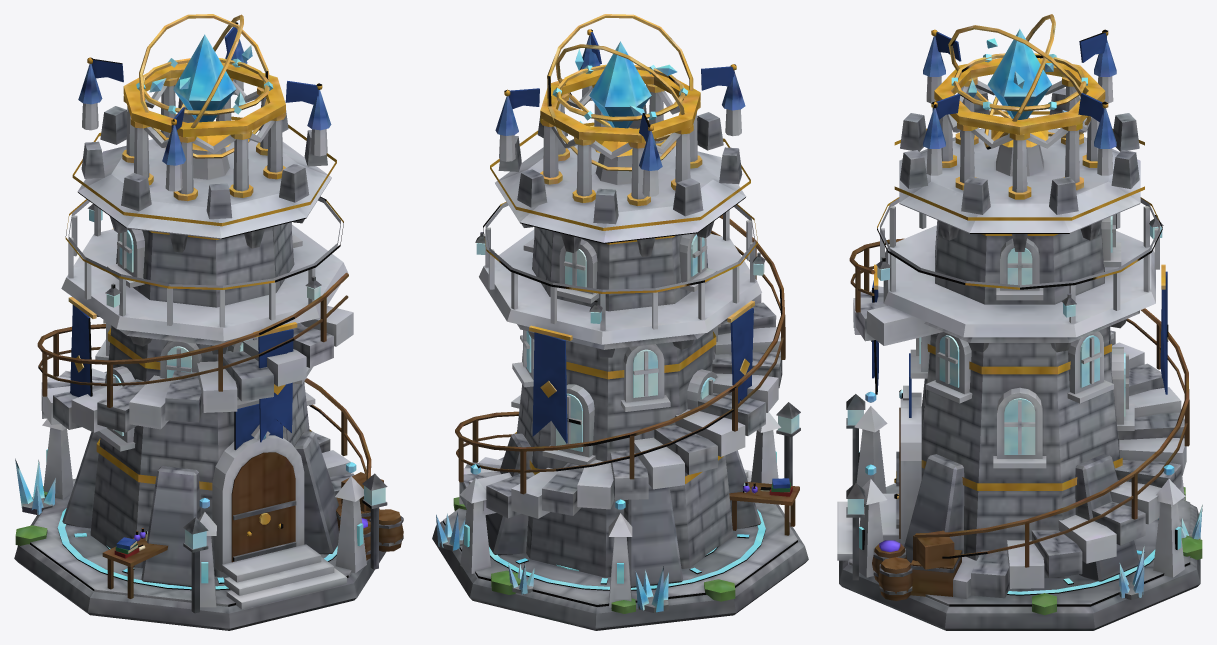
File: arcane_tower.glb
3 renders of one model, left to right at view 1: azimuth 30°, elevation 25°; view 2: azimuth 150°, elevation 25°; view 3: azimuth 270°, elevation 25°, orthographic. The views are drawn at different scales.
Parts seen in each view (by area): view 1: Static_Mesh, Anim_Banners, Anim_Crystal; view 2: Static_Mesh, Anim_Crystal, Anim_Banners; view 3: Static_Mesh, Anim_Crystal, Anim_Banners.
Boxes of the visible parts, x1,y1,x2,y2 form: Static_Mesh: (14,22,403,630); Anim_Banners: (68,27,318,450); Anim_Crystal: (136,14,273,158); Static_Mesh: (432,29,808,630); Anim_Crystal: (547,14,693,171); Anim_Banners: (508,32,754,443); Static_Mesh: (837,29,1202,630); Anim_Crystal: (948,14,1091,149); Anim_Banners: (871,32,1168,417).
Bounding box in the file's own units: 5.89 × 9.63 × 5.9.
2 materials, 2 textured.
